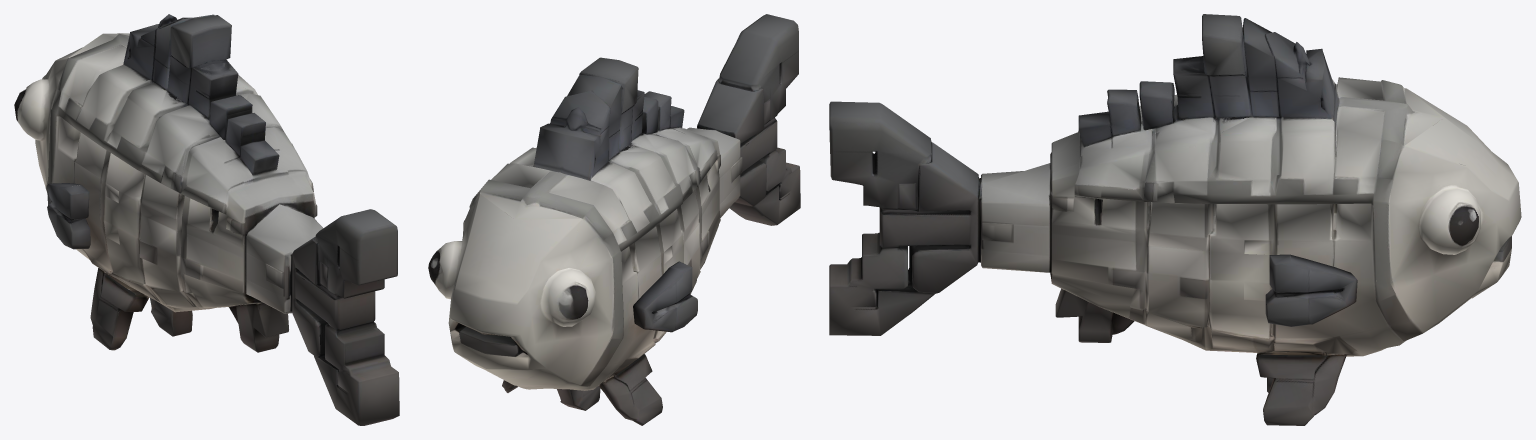
File: generic-fish.glb
The picture shows the model from 3 angles, left to right: view 1: azimuth 30°, elevation 25°; view 2: azimuth 150°, elevation 25°; view 3: azimuth 270°, elevation 25°; orthographic projection. The views are drawn at different scales.
Parts seen in each view (by area): view 1: tripo_node_f4500b28-f57c-4e53-9a8b-b2e55fea9ce5; view 2: tripo_node_f4500b28-f57c-4e53-9a8b-b2e55fea9ce5; view 3: tripo_node_f4500b28-f57c-4e53-9a8b-b2e55fea9ce5.
Part boxes in pixels (x1,y1,x2,y2): tripo_node_f4500b28-f57c-4e53-9a8b-b2e55fea9ce5: [14, 14, 399, 425]; tripo_node_f4500b28-f57c-4e53-9a8b-b2e55fea9ce5: [428, 14, 800, 425]; tripo_node_f4500b28-f57c-4e53-9a8b-b2e55fea9ce5: [829, 14, 1521, 425].
Size of the model in its own units: 0.4129 by 0.5851 by 1.
1 material, 1 textured.
